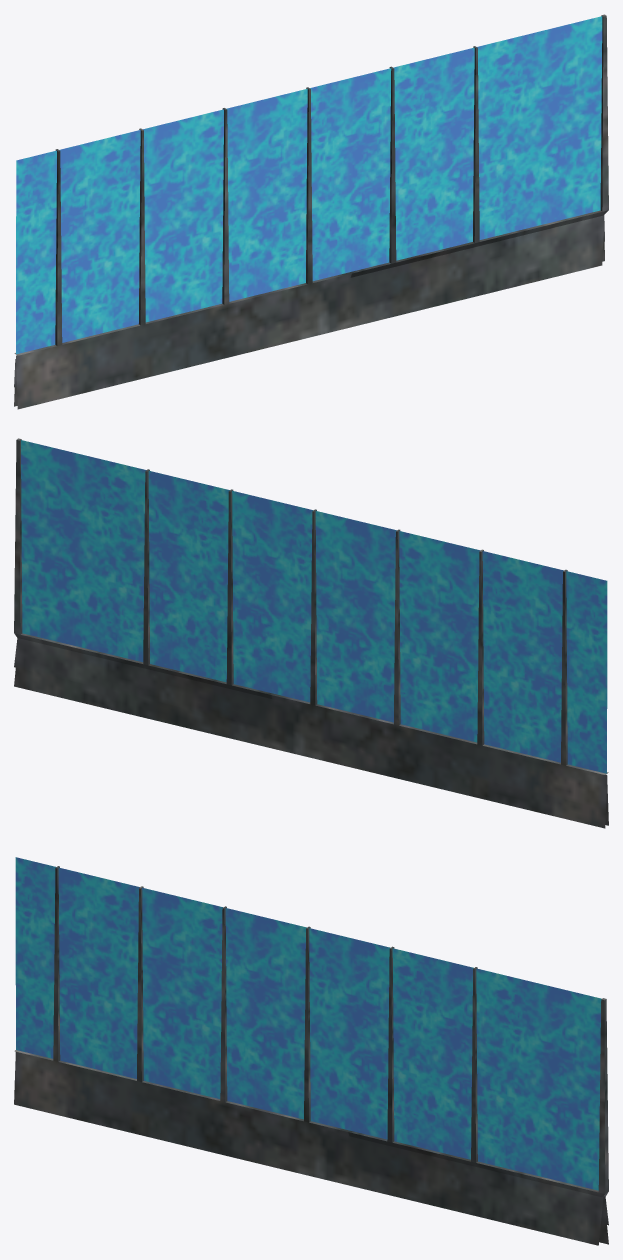
The model's file is wall.dae.
3 renders of one model, top to bottom at view 1: azimuth 30°, elevation 25°; view 2: azimuth 150°, elevation 25°; view 3: azimuth 330°, elevation 25°, orthographic.
Parts seen in each view (by area): view 1: wall; view 2: wall; view 3: wall.
Boxes of the visible parts, x1,y1,x2,y2 form: wall: (14, 14, 608, 409); wall: (14, 438, 608, 828); wall: (14, 857, 608, 1245).
Size of the model in its own units: 27.18 by 0.4483 by 10.87.
2 materials, 2 textured.
